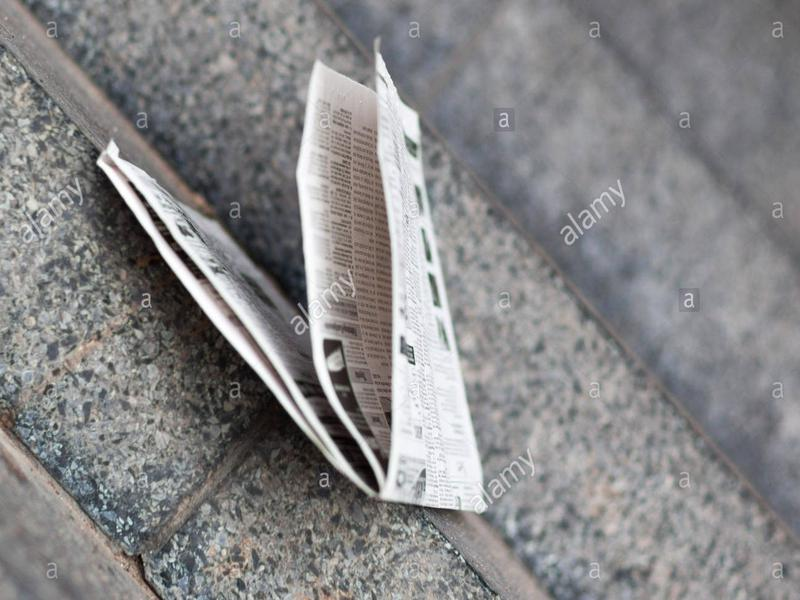paper: (87, 33, 498, 518)
